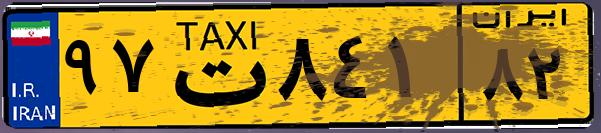1: (385, 28, 445, 110)
2: (525, 38, 570, 115)
4: (330, 28, 385, 110)
7: (110, 28, 158, 98)
8: (270, 28, 330, 110), (475, 38, 525, 113)
9: (57, 26, 110, 100)
ت: (158, 12, 270, 120)
